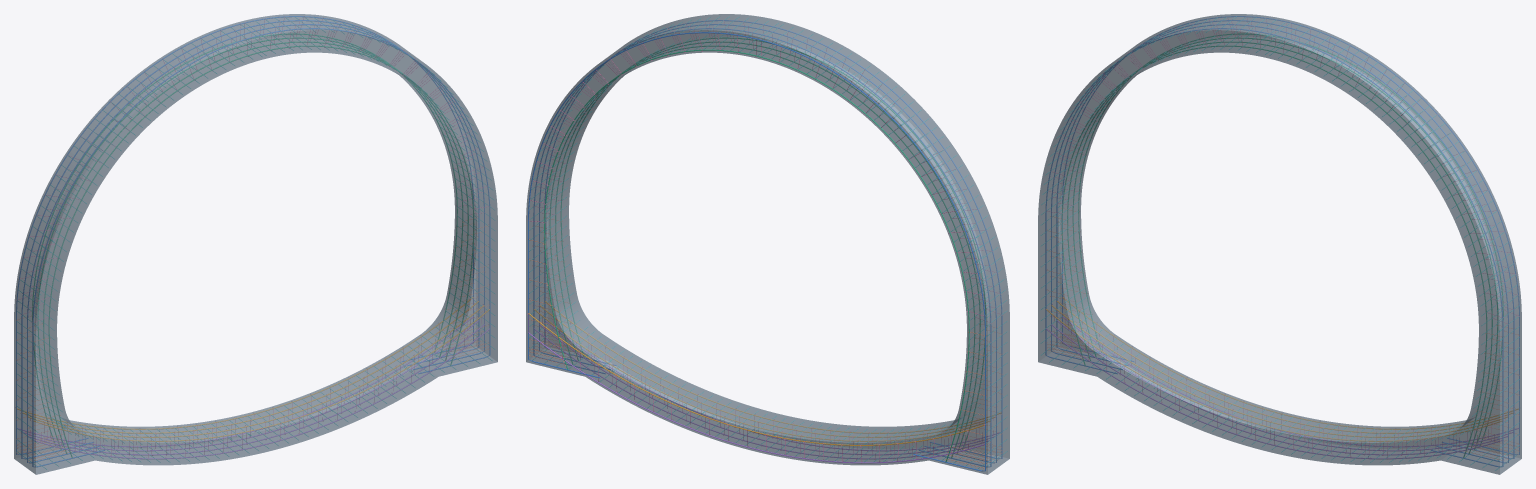
The model's file is Z-PM_support_1m_partial.glb.
3 renders of one model, left to right at view 1: azimuth 30°, elevation 25°; view 2: azimuth 150°, elevation 25°; view 3: azimuth 330°, elevation 25°, orthographic.
Visible parts, largest first — view 1: ZPMSecondaryLiningConcrete, N1_3, N1_1, N1_2, N2_3, N2_2, N2_1, N1_0, N2_0, N4_3, N3_2, N3_3 (+5 smaller); view 2: ZPMSecondaryLiningConcrete, N1_1, N1_0, N1_3, N2_0, N1_2, N2_1, N2_2, N2_3, N3_0, N4_0, N3_1 (+5 smaller); view 3: ZPMSecondaryLiningConcrete, N1_3, N1_1, N1_2, N2_3, N2_2, N2_1, N1_0, N2_0, N4_3, N3_2, N3_3 (+5 smaller).
Boxes of the visible parts, x1,y1,x2,y2 form: ZPMSecondaryLiningConcrete: (14, 14, 497, 474); N1_3: (32, 28, 490, 467); N1_1: (21, 20, 479, 459); N1_2: (27, 24, 484, 463); N2_3: (48, 45, 474, 457); N2_2: (43, 41, 468, 453); N2_1: (37, 37, 463, 449); N1_0: (16, 16, 473, 454); N2_0: (32, 33, 457, 445); N4_3: (34, 328, 489, 459); N3_2: (28, 305, 484, 437); N3_3: (33, 309, 489, 441); ZPMSecondaryLiningConcrete: (526, 14, 1009, 474); N1_1: (533, 28, 991, 467); N1_0: (528, 32, 985, 471); N1_3: (544, 20, 1002, 459); N2_0: (544, 49, 969, 461); N1_2: (539, 24, 996, 463); N2_1: (549, 45, 975, 457); N2_2: (555, 41, 980, 453); N2_3: (560, 37, 986, 449); N3_0: (528, 313, 984, 445); N4_0: (528, 332, 984, 463); N3_1: (534, 309, 990, 441); ZPMSecondaryLiningConcrete: (1038, 14, 1521, 474); N1_3: (1045, 28, 1503, 467); N1_1: (1056, 20, 1514, 459); N1_2: (1051, 24, 1508, 463); N2_3: (1061, 45, 1487, 457); N2_2: (1067, 41, 1492, 453); N2_1: (1072, 37, 1498, 449); N1_0: (1062, 16, 1519, 454); N2_0: (1078, 33, 1503, 445); N4_3: (1046, 328, 1502, 459); N3_2: (1051, 305, 1507, 437); N3_3: (1046, 309, 1502, 441).
Size of the model in its own units: 12.1 by 10.4 by 1.07.
